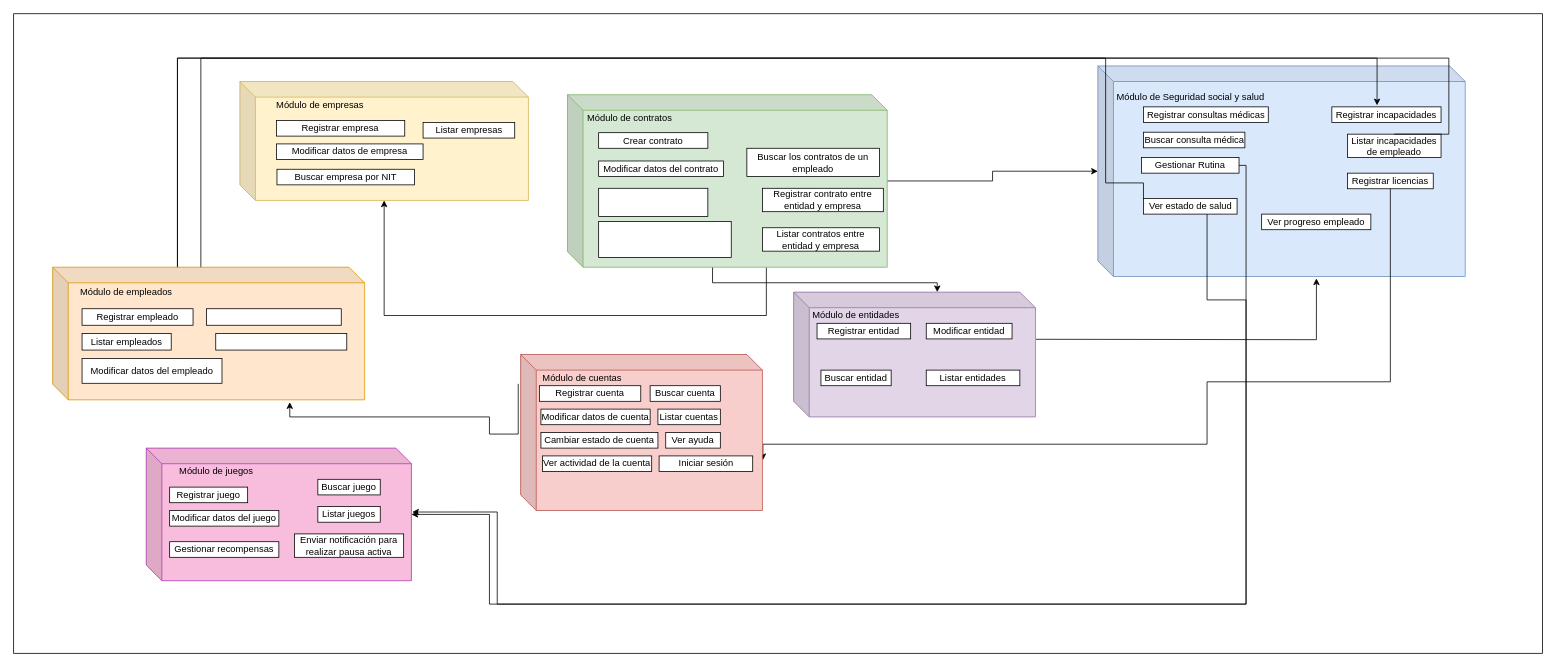
The diagram is 1556 pixels wide and 667 high, and some of its shapes have lost their labels. Here are the shapes that lost their labels. From the top down, the centre of each, then its label:
At point 653,202: "Listar los contratos de cada empresa".
At point 664,239: "Listar los contratos registrados en el sistema".
At point 273,316: "Enviar reporte de incapacidad".
At point 281,341: "Buscar empleado".
